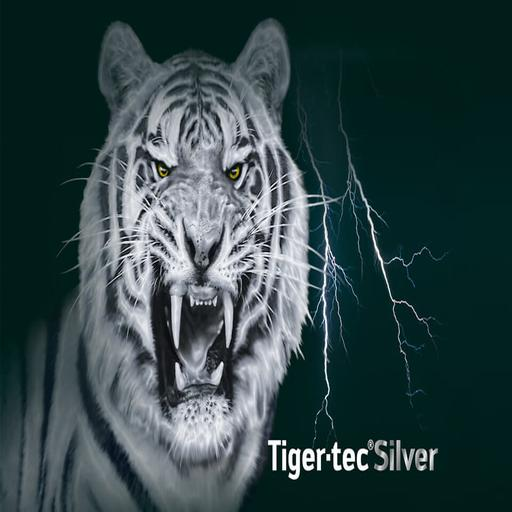Tiger: (0, 13, 340, 512)
